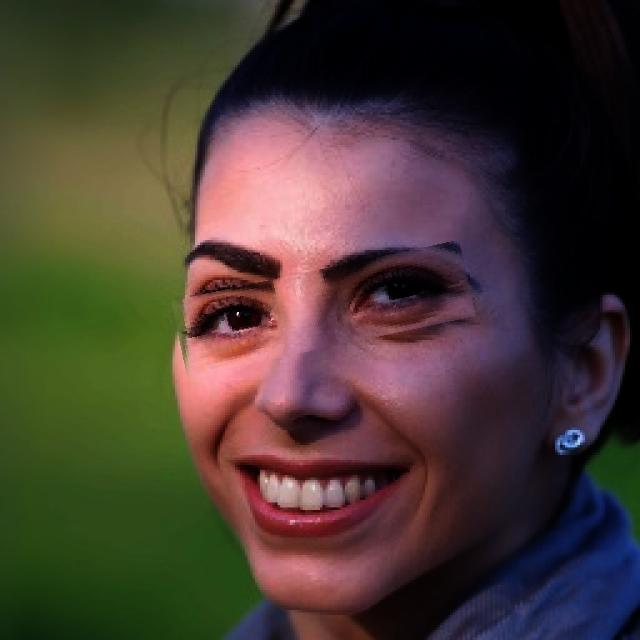no-glasses: (174, 255, 473, 362)
